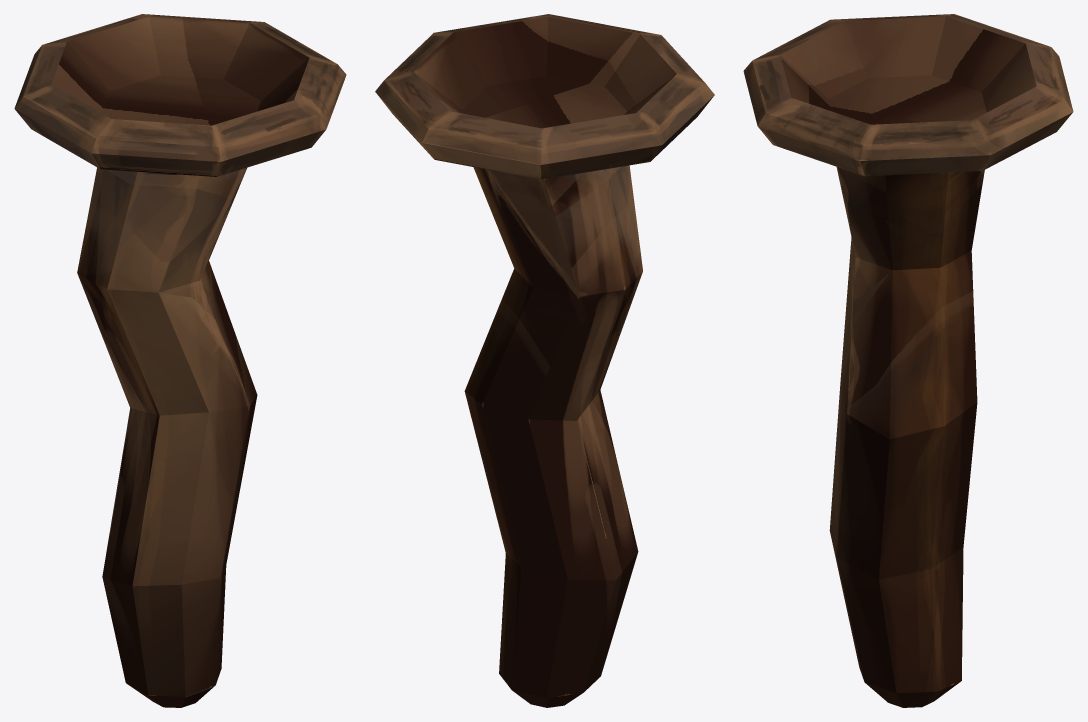
File: MagicRod.fbx
3 renders of one model, left to right at view 1: azimuth 30°, elevation 25°; view 2: azimuth 150°, elevation 25°; view 3: azimuth 270°, elevation 25°, orthographic.
Parts seen in each view (by area): view 1: MagicballTransparent.002; view 2: MagicballTransparent.002; view 3: MagicballTransparent.002.
Boxes of the visible parts, x1,y1,x2,y2 form: MagicballTransparent.002: (14, 14, 346, 707); MagicballTransparent.002: (375, 14, 714, 707); MagicballTransparent.002: (743, 14, 1073, 707).
Size of the model in its own units: 200 by 422 by 200.
Materials: 1 (1 with a texture image).
